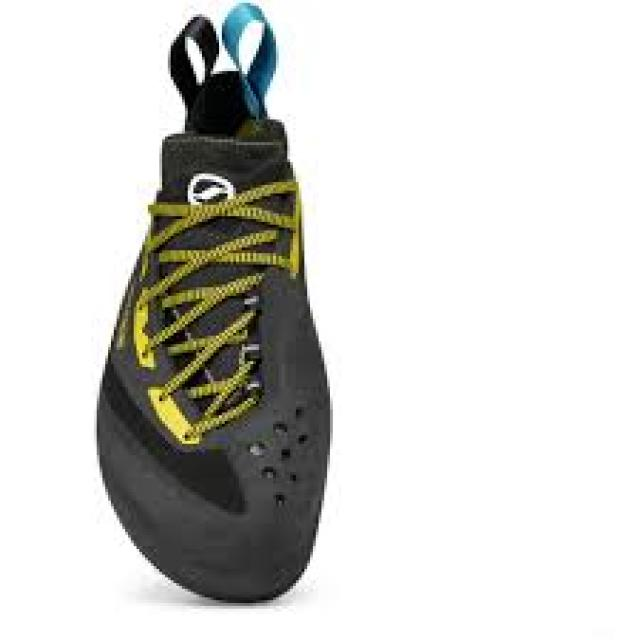climbing-shoes: (91, 3, 336, 606)
